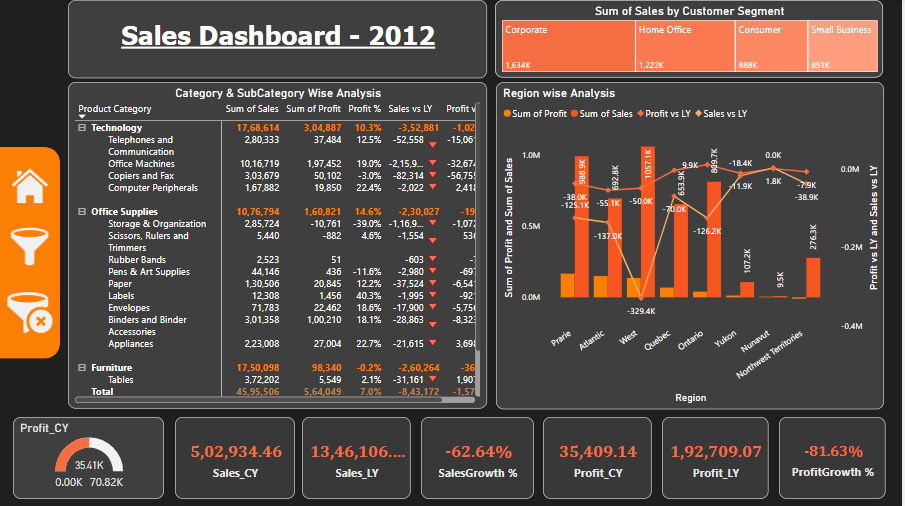

What the dashboard file says about the page in this screenshot:
{"tool":"powerbi","page":{"name":"Page 1","canvas":[1280,720],"ordinal":0},"visuals":[{"type":"card","fields":{"Values":["All_Measures.Sales_CY"]},"box":[250,592,170,116],"z":0},{"type":"textbox","box":[97.8,1.4,593.9,110.6],"z":3000},{"type":"card","fields":{"Values":["All_Measures.Profit_CY"]},"box":[771.1,592.2,154.4,115.6],"z":4000},{"type":"pivotTable","title":"Category & SubCategory Wise Analysis","fields":{"Rows":["Category Mapping.Product Category","Category Mapping.Product Sub-Category"],"Values":["Sum(Sales Data.Sales)","Sum(Sales Data.Profit)","All_Measures.Profit %","All_Measures.Sales vs LY1","All_Measures.Sales vs LY"]},"box":[97.8,117.6,593.9,463.5],"z":5000},{"type":"card","fields":{"Values":["All_Measures.Profit_LY"]},"box":[940,592.2,151.1,115.6],"z":6000},{"type":"treemap","fields":{"Group":["Customer Segment.Customer Segment"],"Values":["Sum(Sales Data.Sales)"]},"box":[703.3,1.7,550,110],"z":7000},{"type":"card","fields":{"Values":["All_Measures.ProfitGrowth %"]},"box":[1105.6,592.2,151.1,115.6],"z":8000},{"type":"lineClusteredColumnComboChart","title":"Region wise Analysis","fields":{"Category":["Region Mapping.Region"],"Y":["Sum(Sales Data.Profit)","Sum(Sales Data.Sales)"],"Y2":["All_Measures.Profit vs LY","All_Measures.Sales vs LY"]},"box":[704,118,550,464],"z":9000},{"type":"gauge","fields":{"Y":["All_Measures.Profit_CY"]},"box":[20,592,214,116],"z":10000},{"type":"card","fields":{"Values":["All_Measures.Sales_LY"]},"box":[430,592,154,116],"z":11000},{"type":"card","fields":{"Values":["All_Measures.SalesGrowth %"]},"box":[598,592,160,116],"z":12000},{"type":"shape","box":[0,210,86.7,300],"z":14000},{"type":"image","box":[0,302.9,87.1,94.3],"z":15000},{"type":"image","box":[2.9,227.1,82.9,75.7],"z":16000},{"type":"image","box":[2.9,408.6,82.9,75.7],"z":17000}]}

Visuals, with their boxes in screenshot pixels (x1, y1, x2, y2), scaled from the page's 1280x720 canvas onto the 905x506 screenshot:
card - All_Measures.Sales_CY: 177,416,297,498
textbox: 69,1,489,79
card - All_Measures.Profit_CY: 545,416,654,497
"Category & SubCategory Wise Analysis" pivotTable: 69,83,489,408
card - All_Measures.Profit_LY: 665,416,771,497
treemap - Customer Segment.Customer Segment x Sum(Sales Data.Sales): 497,1,886,79
card - All_Measures.ProfitGrowth %: 782,416,889,497
"Region wise Analysis" lineClusteredColumnComboChart: 498,83,887,409
gauge - All_Measures.Profit_CY: 14,416,165,498
card - All_Measures.Sales_LY: 304,416,413,498
card - All_Measures.SalesGrowth %: 423,416,536,498
shape: 0,148,61,358
image: 0,213,62,279
image: 2,160,61,213
image: 2,287,61,340
